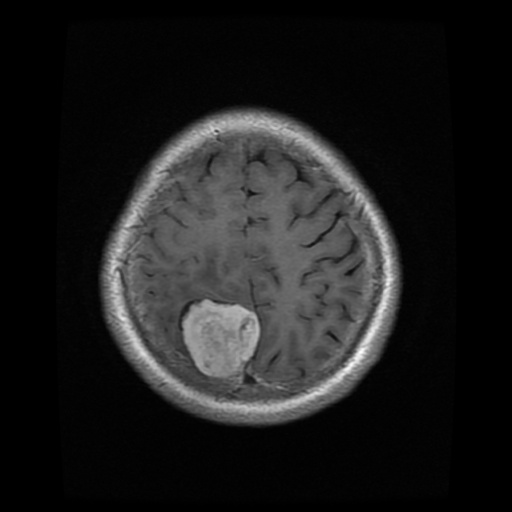meningioma: (180, 298, 260, 379)
